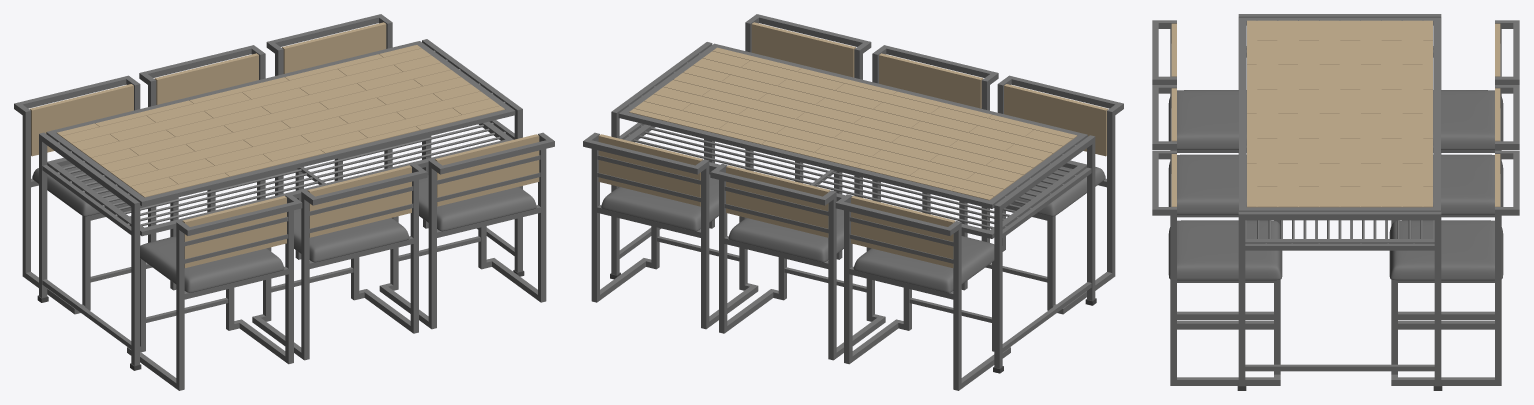
Rendered from 600_ダイニングテーブルセット6人掛け.glb.
3 views of the same model, side by side, from view 1: azimuth 30°, elevation 25°; view 2: azimuth 150°, elevation 25°; view 3: azimuth 270°, elevation 25° (orthographic). The views are drawn at different scales.
Visible parts, largest first — view 1: Body, chair4, chair6, chair5, chair1, chair2, chair3; view 2: Body, chair1, chair3, chair2, chair4, chair5, chair6; view 3: Body, chair6, chair3, chair5, chair2, chair4, chair1.
Part boxes in pixels (x1,y1,x2,y2): Body: (37, 39, 524, 370); chair4: (127, 194, 302, 390); chair6: (379, 132, 554, 329); chair5: (252, 163, 427, 360); chair1: (14, 75, 178, 314); chair2: (139, 45, 303, 259); chair3: (266, 14, 431, 228); Body: (610, 42, 1096, 373); chair1: (835, 194, 1010, 390); chair3: (583, 132, 758, 329); chair2: (710, 163, 885, 360); chair4: (959, 75, 1123, 314); chair5: (834, 45, 998, 259); chair6: (706, 14, 871, 228); Body: (1237, 14, 1442, 390); chair6: (1152, 150, 1282, 385); chair3: (1389, 150, 1519, 385); chair5: (1152, 85, 1280, 320); chair2: (1391, 85, 1519, 320); chair4: (1152, 20, 1246, 152); chair1: (1433, 20, 1519, 152).
Size of the model in its own units: 1.84 by 0.752 by 1.42.
